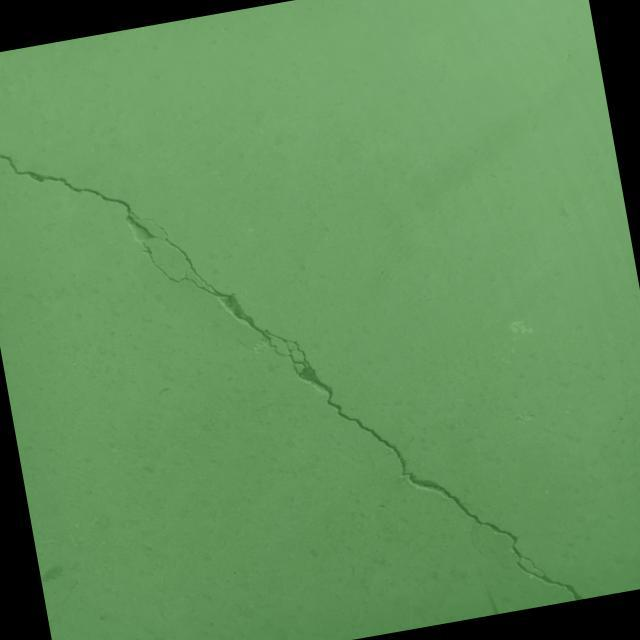crack: (0, 39, 585, 640)
